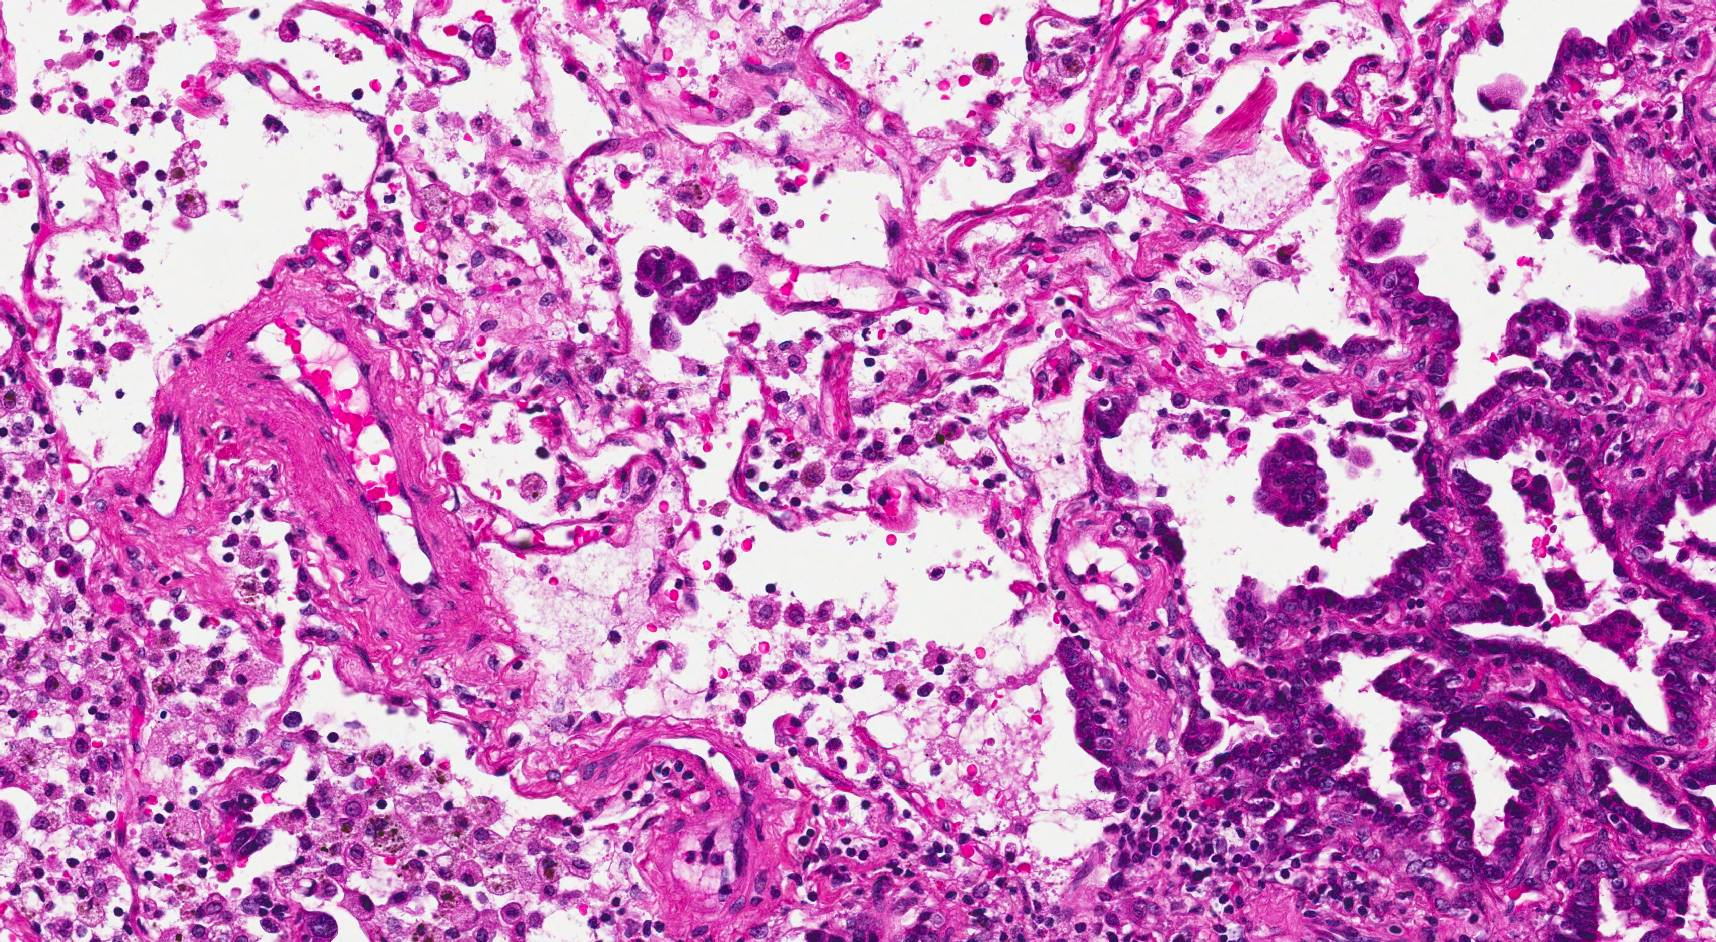stas: (632, 239, 758, 350), (1255, 432, 1332, 535)
